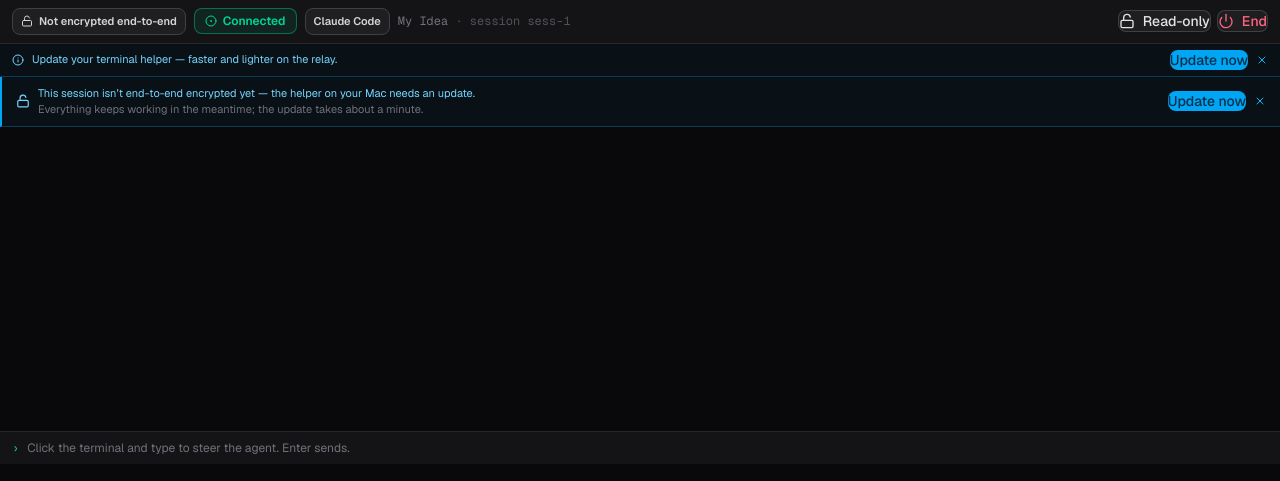
Test: TerminalSessionView — 'not encrypted yet' chip (Terminal P2 E2EE) › dismissing the nudge does not hide the persistent chip above it
This screenshot has width=1280, height=481.
Click the button named "Dismiss not-encrypted notice": [1260, 101] box 1254,95 -> 1266,107
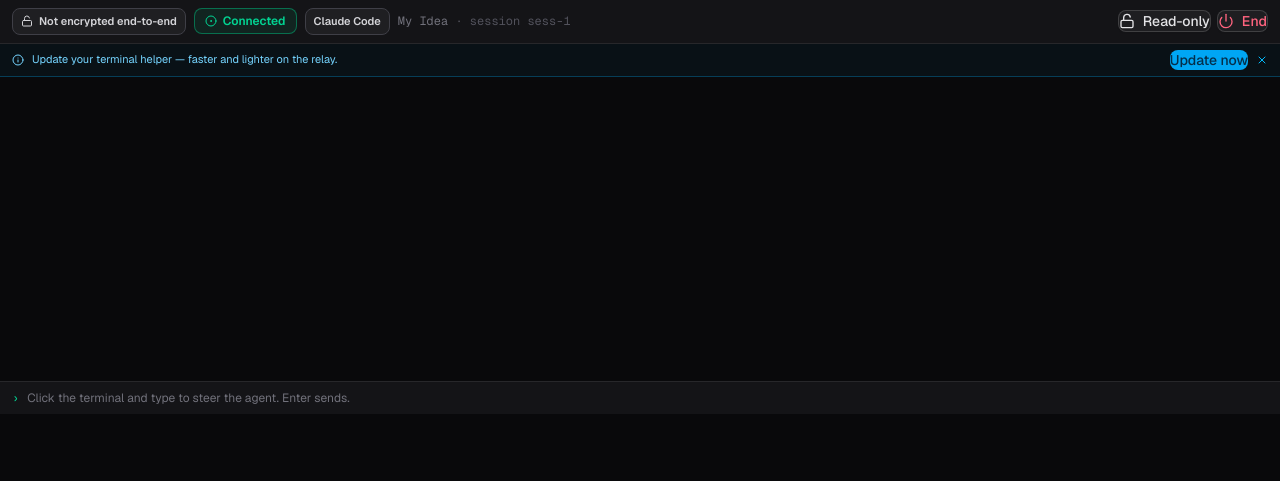
Check: the text "Not encrypted end-to-end" is shown, box 39,13 -> 177,30
Check: the message is gone
